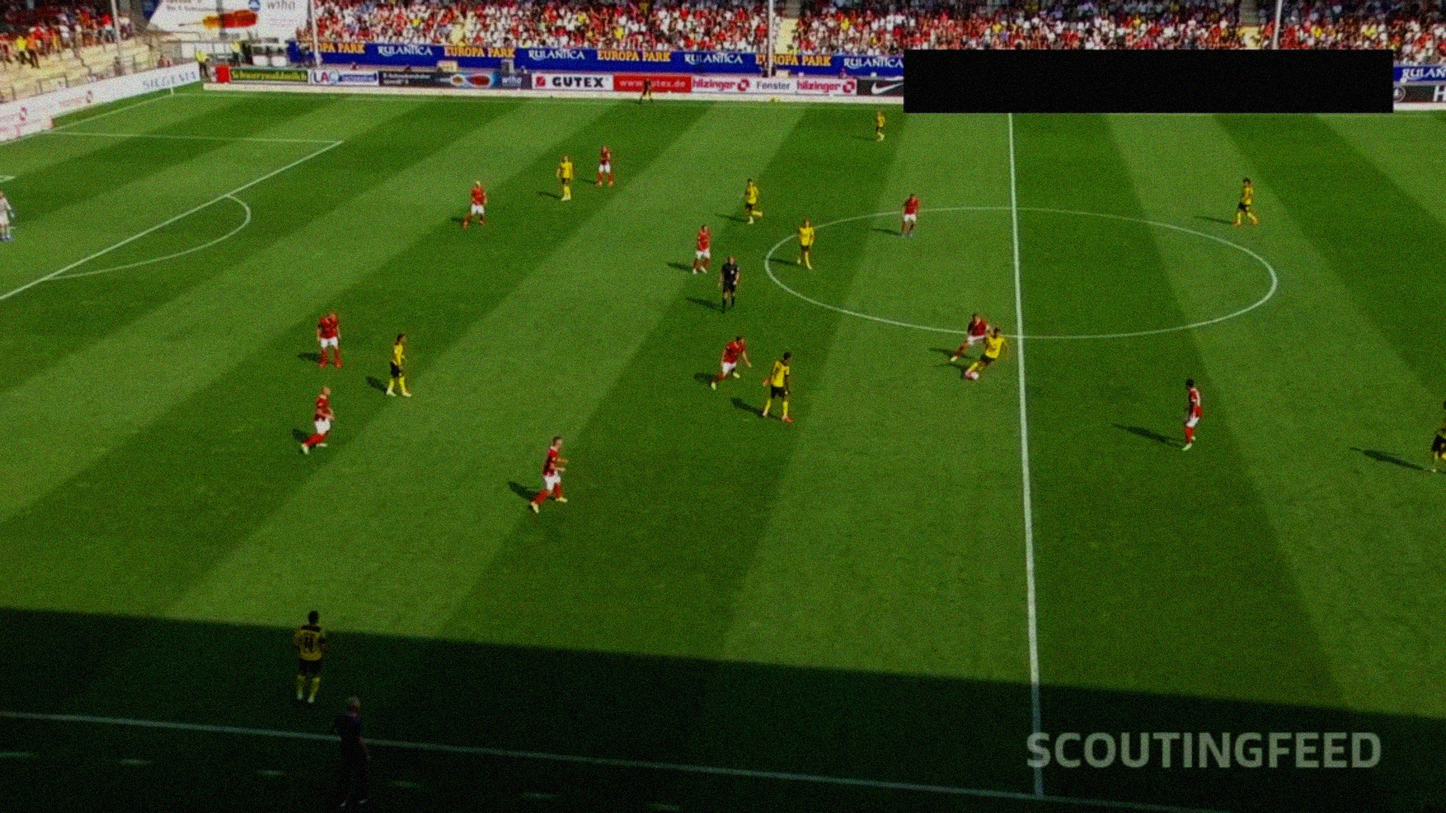ball: (970, 370, 982, 380)
goalkeeper: (0, 186, 14, 242)
player: (526, 438, 569, 513), (294, 611, 326, 703), (297, 388, 333, 457), (967, 327, 1010, 384), (761, 353, 793, 418), (709, 337, 746, 393), (384, 334, 413, 400), (958, 315, 992, 371), (1179, 379, 1203, 452), (313, 313, 342, 366), (737, 177, 765, 227), (463, 181, 488, 231), (795, 220, 816, 275), (898, 192, 920, 241), (1234, 178, 1256, 225), (1433, 399, 1446, 470), (694, 224, 712, 275), (557, 157, 573, 204), (596, 146, 615, 184), (872, 108, 887, 146)
referee: (716, 256, 738, 315), (637, 76, 656, 105)
